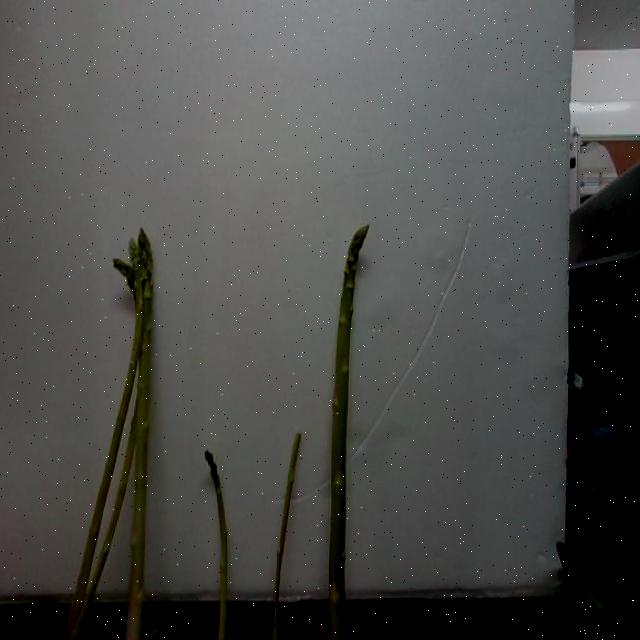aspargus: (329, 228, 368, 640), (122, 233, 156, 640), (203, 452, 227, 640)
